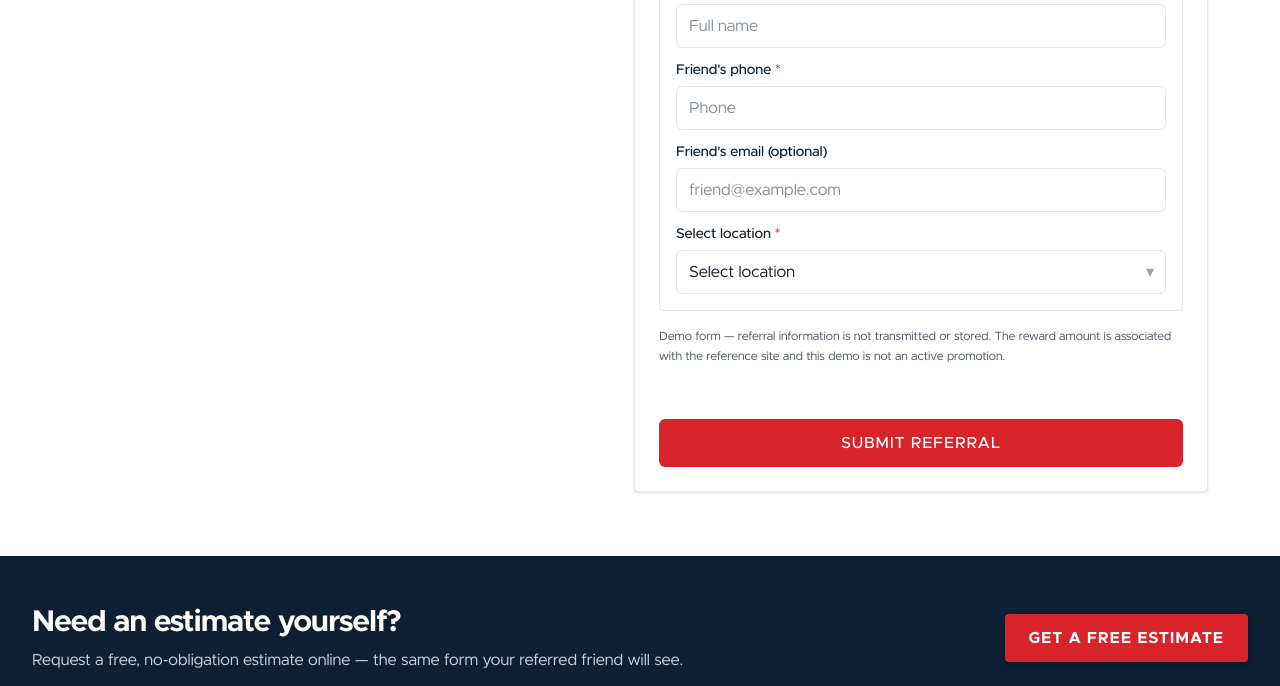
ReferAFriend form behavior › surfaces required-field errors when submitted empty
(page scrolled)
What coordinates should you click on to do the following:
click the button "Submit Referral"
I would click on:
 (921, 443)
Its box is [659,419,1183,467].
(page scrolled)
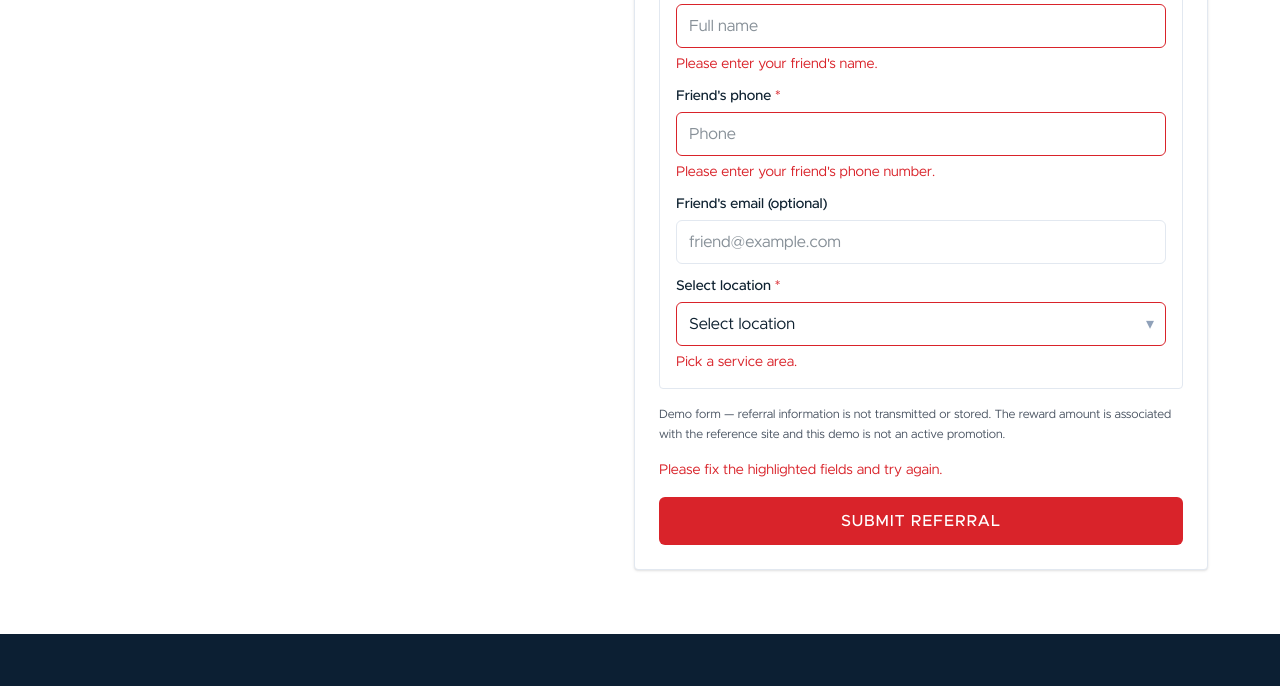
Expected: the text "Please enter your friend's name." is shown, [676,57,878,71]
Expected: the text "Please enter your friend's phone number." is shown, [676,165,935,179]
Expected: the text "Pick a service area." is shown, [676,355,797,369]
